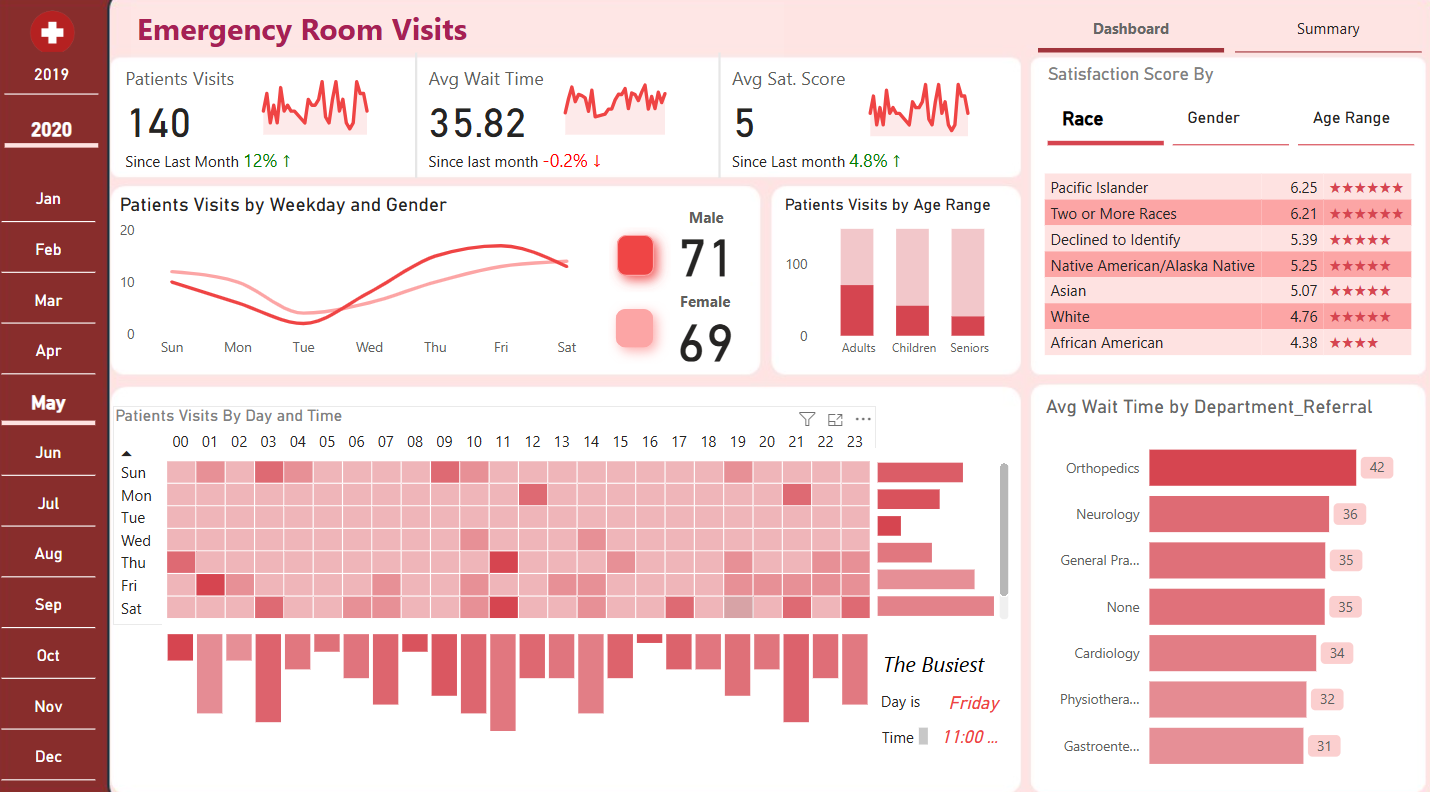

The page's visual inventory and layout, read from the dashboard file:
{"tool":"powerbi","page":{"name":"Dashboard","canvas":[1280,720],"ordinal":0},"visuals":[{"type":"advancedSlicerVisual","fields":{"Values":["DateTable.Year"]},"box":[6.2,46.1,93.1,97.5],"z":0},{"type":"advancedSlicerVisual","fields":{"Values":["DateTable.Month"]},"box":[3.5,155.2,93.1,552.4],"z":1000},{"type":"cardVisual","fields":{"Data":["All Mesures.Patients Visits","All Mesures.Avg Wait Time","All Mesures.Avg Satisfaction Score"]},"box":[101.3,47.8,810.6,121.1],"z":2000},{"type":"areaChart","fields":{"Y":["All Mesures.Patients Visits"],"Category":["DateTable.Day"]},"box":[222.5,59.4,152.6,72.2],"z":3000},{"type":"areaChart","fields":{"Y":["All Mesures.Avg Wait Time"],"Category":["DateTable.Day"]},"box":[490.3,59.4,147.9,72.2],"z":4000},{"type":"areaChart","fields":{"Y":["All Mesures.Patients Visits"],"Category":["DateTable.Day"]},"box":[760.5,61.7,145.6,71],"z":5000},{"type":"lineChart","fields":{"Y":["All Mesures.Patients Visits"],"Category":["DateTable.Weekday"],"Series":["Hospital ER.Gender"]},"box":[108.3,177,429.8,154.9],"z":6000},{"type":"card","fields":{"Values":["All Mesures.Patients Visits"]},"box":[588.2,185.2,90.8,71],"z":7000},{"type":"card","fields":{"Values":["All Mesures.Patients Visits"]},"box":[587,259.7,90.8,72.2],"z":8000},{"type":"shape","box":[539.3,199.2,62.9,66.4],"z":9000},{"type":"shape","box":[538.1,265.6,62.9,64.1],"z":10000},{"type":"clusteredColumnChart","title":"Patients Visits by Age Range","fields":{"Y":["All Mesures.Patients Visits","All Mesures.Patients Visits Stats"],"Category":["Hospital ER.Age Range"]},"box":[697.7,179.4,209.6,153.7],"z":11000},{"type":"tableEx","fields":{"Values":["Hospital ER.Race","All Mesures.Avg Sat. Score","All Mesures.Score Rating"]},"box":[927.1,109.5,341.3,222.5],"z":12000},{"type":"advancedSlicerVisual","title":"Satisfaction Score By","fields":{"Values":["Sat_Param.Sat_Param"]},"box":[930.6,61.7,336.6,78],"z":13000},{"type":"clusteredBarChart","fields":{"Y":["All Mesures.Avg Wait Time"],"Category":["Hospital ER.Department_Referral"]},"box":[929.4,356.4,334.3,349.4],"z":14000},{"type":"pivotTable","title":"Patients Visits By Day and Time","fields":{"Rows":["DateTable.Weekday"],"Columns":["Hospital ER.Hour"],"Values":["All Mesures.Patients Visits"]},"box":[107.3,365.9,676.1,194.1],"z":15000},{"type":"clusteredBarChart","fields":{"Category":["DateTable.Weekday"],"Y":["All Mesures.Patients Visits"]},"box":[780.7,403.4,126.1,157.1],"z":16000},{"type":"clusteredColumnChart","fields":{"Category":["Hospital ER.Hour"],"Y":["All Mesures.Patients Visits"]},"box":[151.1,559.3,630.7,132.1],"z":17000},{"type":"card","fields":{"Values":["All Mesures.Busiest Day"]},"box":[831.6,614.7,76.9,31.4],"z":18000},{"type":"card","fields":{"Values":["All Mesures.Busiest Time"]},"box":[832.8,645,67.6,31.4],"z":19000},{"type":"textbox","box":[785,577.4,111.8,37.3],"z":20000},{"type":"textbox","box":[782.7,614.7,53.6,26.8],"z":21000},{"type":"textbox","box":[783.8,646.1,51.2,30.3],"z":22000},{"type":"textbox","box":[123.5,8.2,578.9,52.4],"z":23000},{"type":"pageNavigator","box":[927.1,9.3,340.1,43.1],"z":24000},{"type":"image","box":[26.8,5.8,53.6,53.6],"z":25000}]}

Visuals, with their boxes in screenshot pixels (x1, y1, x2, y2), scaled from the page's 1280x720 canvas onto the 1430x792 screenshot:
advancedSlicerVisual - DateTable.Year: bbox=(7, 51, 111, 158)
advancedSlicerVisual - DateTable.Month: bbox=(4, 171, 108, 778)
cardVisual - All Mesures.Patients Visits x All Mesures.Avg Wait Time: bbox=(113, 53, 1019, 186)
areaChart - All Mesures.Patients Visits x DateTable.Day: bbox=(249, 65, 419, 145)
areaChart - All Mesures.Avg Wait Time x DateTable.Day: bbox=(548, 65, 713, 145)
areaChart - All Mesures.Patients Visits x DateTable.Day: bbox=(850, 68, 1012, 146)
lineChart - All Mesures.Patients Visits x DateTable.Weekday: bbox=(121, 195, 601, 365)
card - All Mesures.Patients Visits: bbox=(657, 204, 759, 282)
card - All Mesures.Patients Visits: bbox=(656, 286, 757, 365)
shape: bbox=(602, 219, 673, 292)
shape: bbox=(601, 292, 671, 363)
"Patients Visits by Age Range" clusteredColumnChart: bbox=(779, 197, 1014, 366)
tableEx - Hospital ER.Race x All Mesures.Avg Sat. Score: bbox=(1036, 120, 1417, 365)
"Satisfaction Score By" advancedSlicerVisual: bbox=(1040, 68, 1416, 154)
clusteredBarChart - All Mesures.Avg Wait Time x Hospital ER.Department_Referral: bbox=(1038, 392, 1412, 776)
"Patients Visits By Day and Time" pivotTable: bbox=(120, 402, 875, 616)
clusteredBarChart - DateTable.Weekday x All Mesures.Patients Visits: bbox=(872, 444, 1013, 617)
clusteredColumnChart - Hospital ER.Hour x All Mesures.Patients Visits: bbox=(169, 615, 873, 761)
card - All Mesures.Busiest Day: bbox=(929, 676, 1015, 711)
card - All Mesures.Busiest Time: bbox=(930, 710, 1006, 744)
textbox: bbox=(877, 635, 1002, 676)
textbox: bbox=(874, 676, 934, 706)
textbox: bbox=(876, 711, 933, 744)
textbox: bbox=(138, 9, 785, 67)
pageNavigator: bbox=(1036, 10, 1416, 58)
image: bbox=(30, 6, 90, 65)
